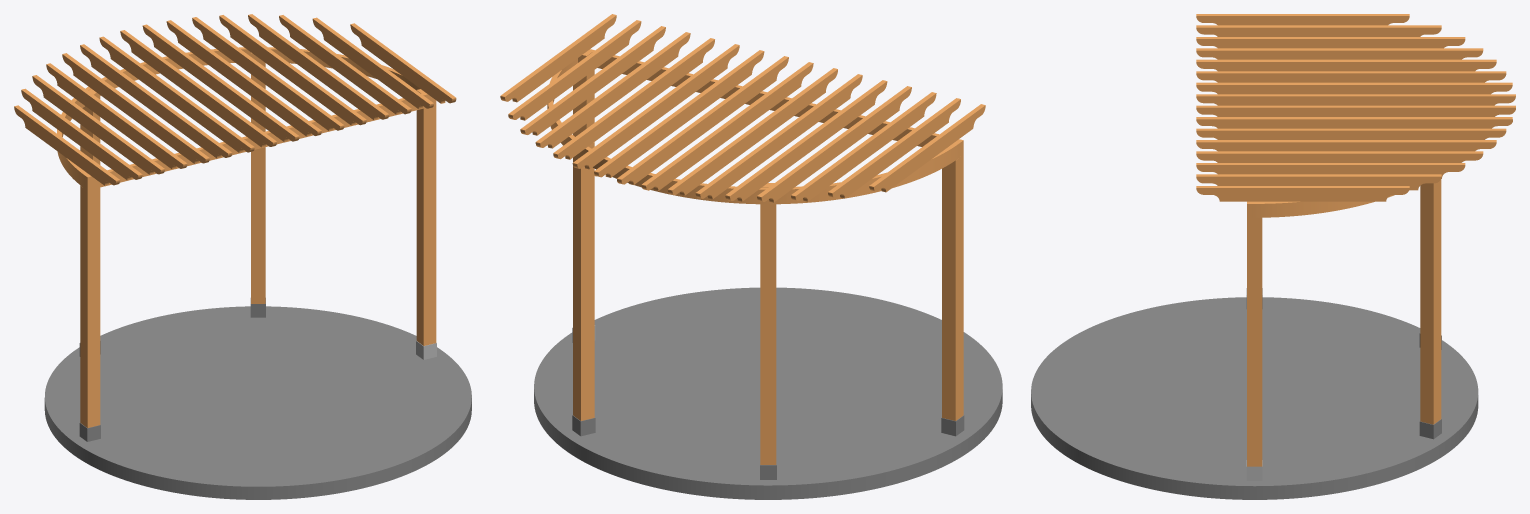
File: ПерголаКруг.obj
3 renders of one model, left to right at view 1: azimuth 30°, elevation 25°; view 2: azimuth 150°, elevation 25°; view 3: azimuth 270°, elevation 25°, orthographic. The views are drawn at different scales.
Bounding box in the file's own units: 4.4 × 3.3 × 4.77.
